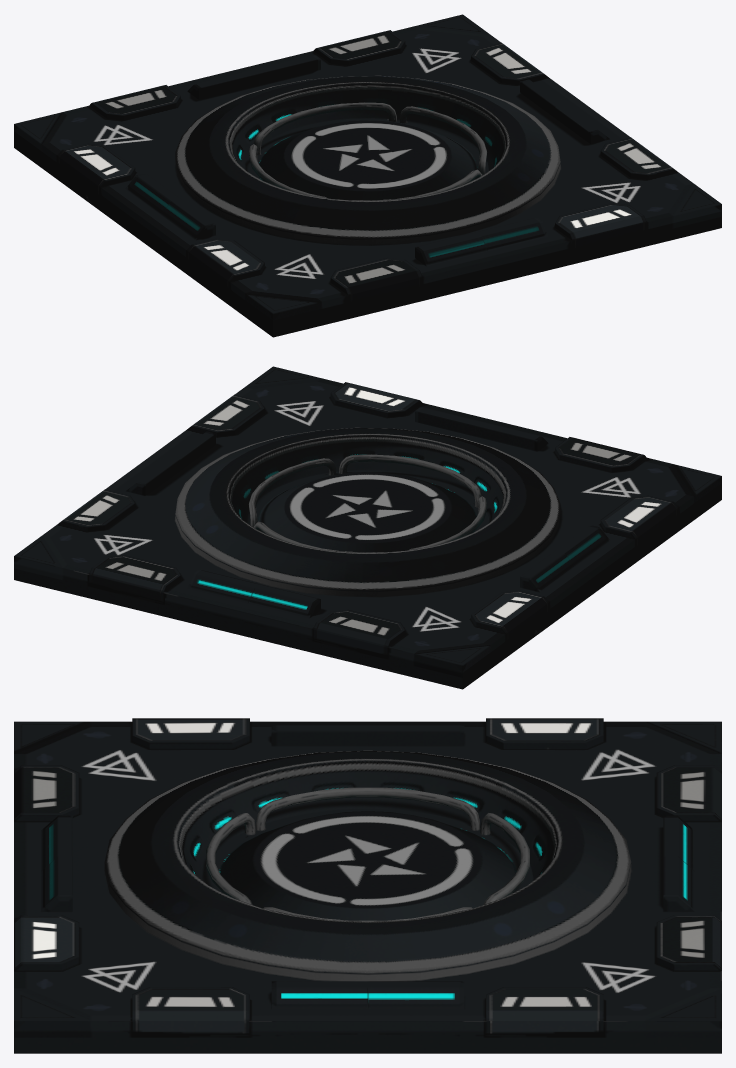
3 renders of one model, top to bottom at view 1: azimuth 30°, elevation 25°; view 2: azimuth 150°, elevation 25°; view 3: azimuth 270°, elevation 25°, orthographic. The views are drawn at different scales.
Size of the model in its own units: 20.01 by 1.96 by 20.01.
1 material, 1 textured.
